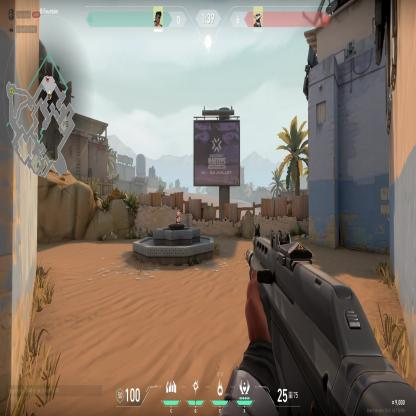enemy: (175, 210, 180, 224)
